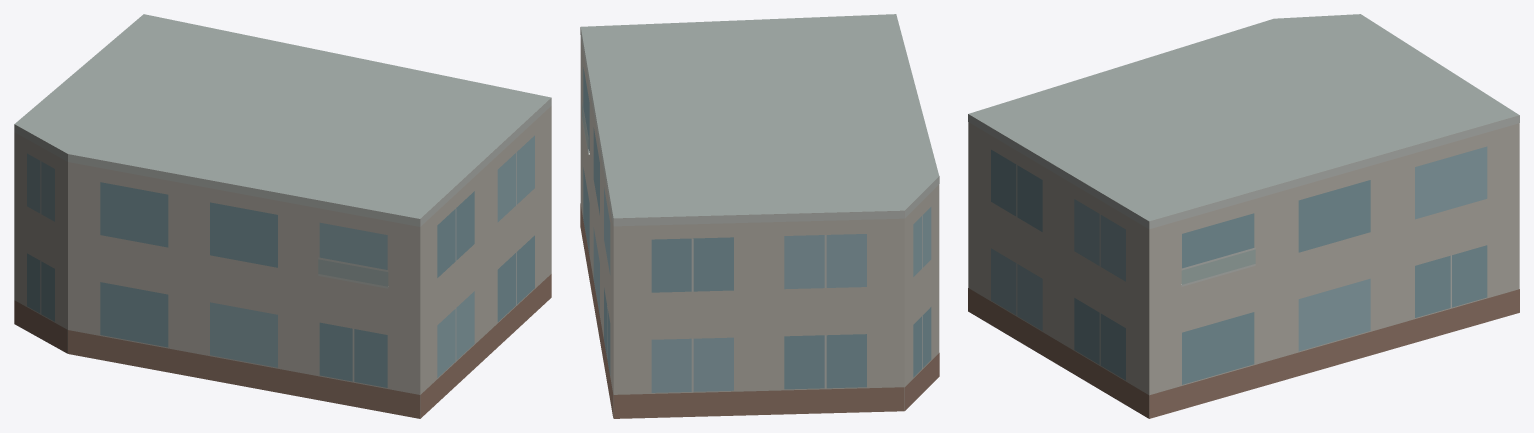
File: survey-upis-32976242.glb
3 views of the same model, side by side, from view 1: azimuth 30°, elevation 25°; view 2: azimuth 150°, elevation 25°; view 3: azimuth 270°, elevation 25° (orthographic).
Visible parts, largest first — view 1: survey-upis-32976242.tmp; view 2: survey-upis-32976242.tmp; view 3: survey-upis-32976242.tmp.
Boxes of the visible parts, x1,y1,x2,y2 form: survey-upis-32976242.tmp: (14,14,551,418); survey-upis-32976242.tmp: (580,14,939,418); survey-upis-32976242.tmp: (968,14,1519,418).
Size of the model in its own units: 13.75 by 6.1 by 15.45.
